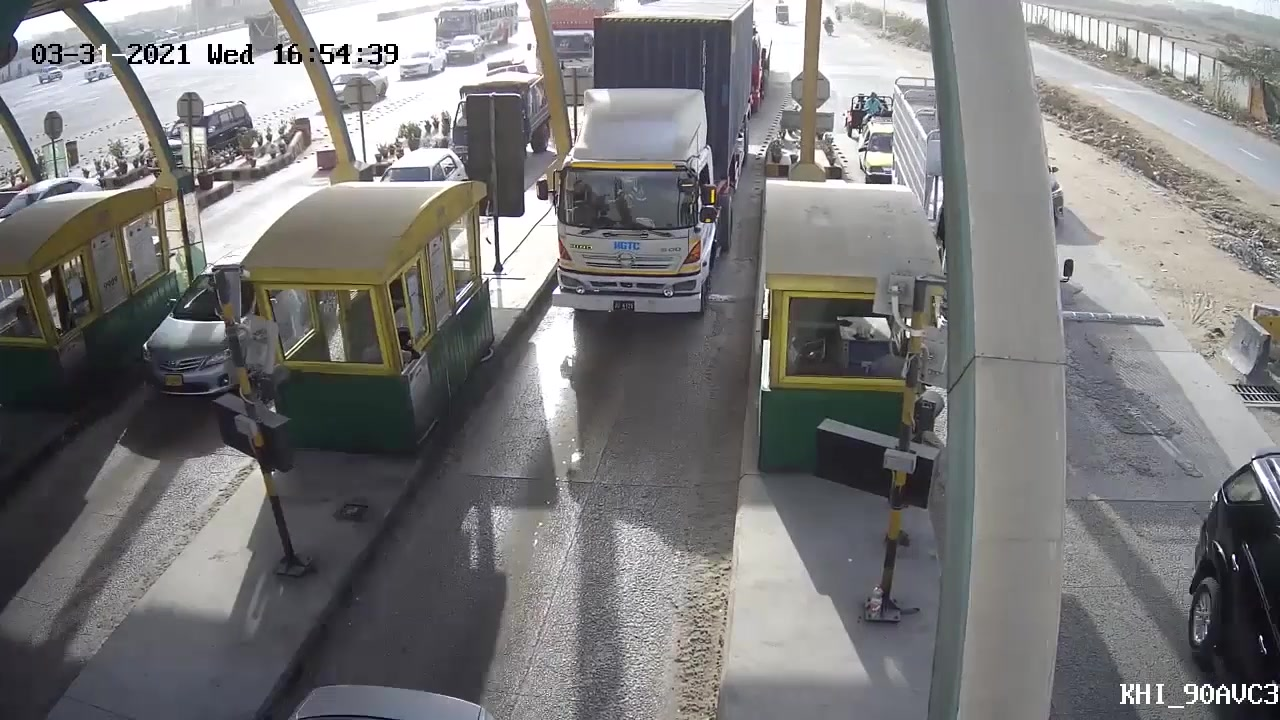F6: (527, 1, 777, 322)
